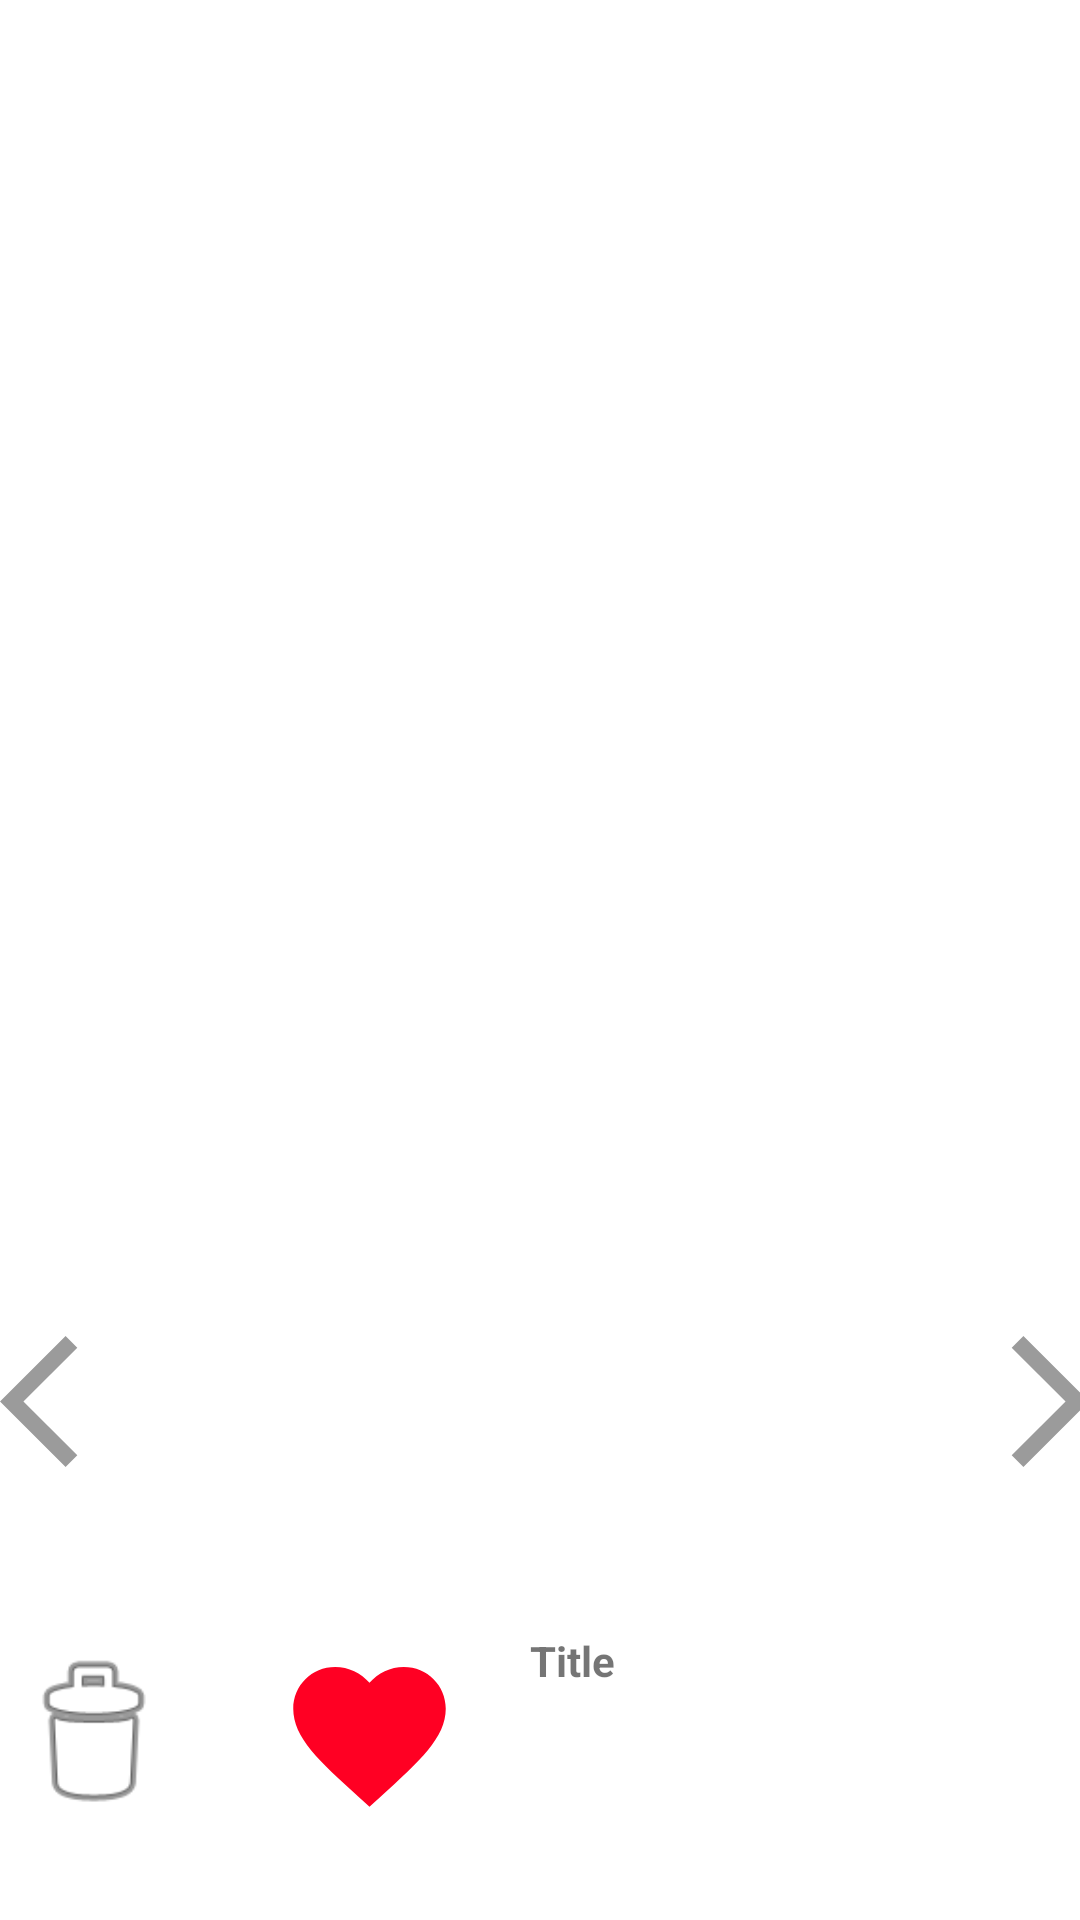

Locate icon controls on the screen. Image size 1080 x 1920, boxes as box(x1, y1, x2, y2).
delete: box(43, 1661, 145, 1802)
favorite: box(293, 1667, 446, 1807)
